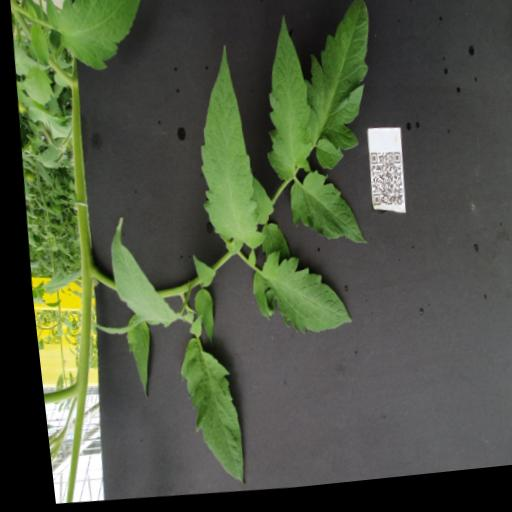Healthy: (176, 42, 266, 258), (292, 2, 379, 162), (162, 335, 239, 494), (247, 18, 315, 191), (238, 248, 346, 347), (97, 213, 179, 336), (39, 0, 151, 79), (279, 170, 364, 257), (112, 315, 147, 404), (181, 293, 209, 354), (242, 181, 270, 232), (250, 227, 284, 267), (25, 21, 49, 70), (308, 142, 340, 178), (183, 255, 211, 294)
